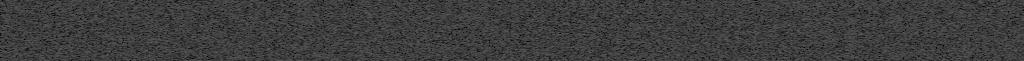wv_am: (254, 0, 261, 61)
wv_cw: (820, 0, 842, 61), (221, 0, 230, 61)
wv_lsb: (191, 30, 195, 38), (191, 39, 195, 44), (191, 20, 195, 23)
wv_usb: (63, 1, 68, 55), (63, 56, 67, 59)
wv_wbfm: (19, 0, 90, 61), (274, 0, 356, 47), (282, 48, 342, 61)
